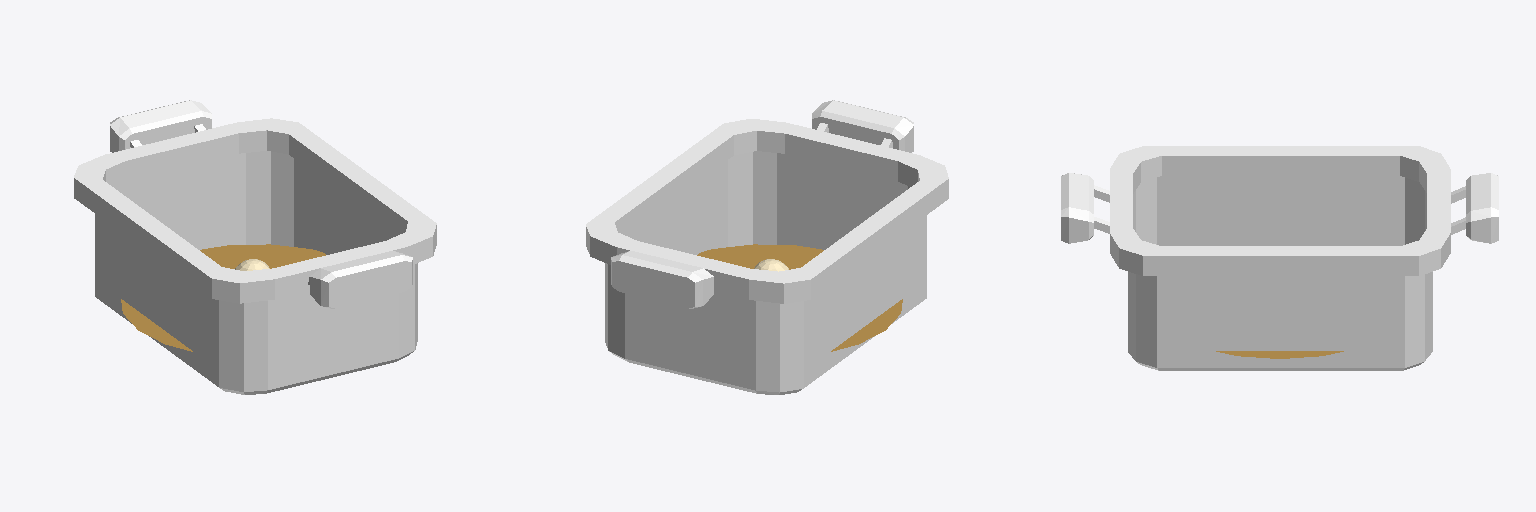
3 renders of one model, left to right at view 1: azimuth 30°, elevation 25°; view 2: azimuth 150°, elevation 25°; view 3: azimuth 270°, elevation 25°, orthographic.
Visible parts, largest first — view 1: FryingPan, m_Surface; view 2: FryingPan, m_Surface; view 3: FryingPan, m_Surface.
Boxes of the visible parts, x1=… form: FryingPan: x1=74, y1=100, x2=436, y2=394; m_Surface: x1=121, y1=244, x2=325, y2=351; FryingPan: x1=586, y1=100, x2=948, y2=394; m_Surface: x1=697, y1=244, x2=902, y2=351; FryingPan: x1=1061, y1=146, x2=1498, y2=370; m_Surface: x1=1216, y1=351, x2=1343, y2=358.
Size of the model in its own units: 0.72 by 0.4002 by 1.16.
4 materials, 2 textured.